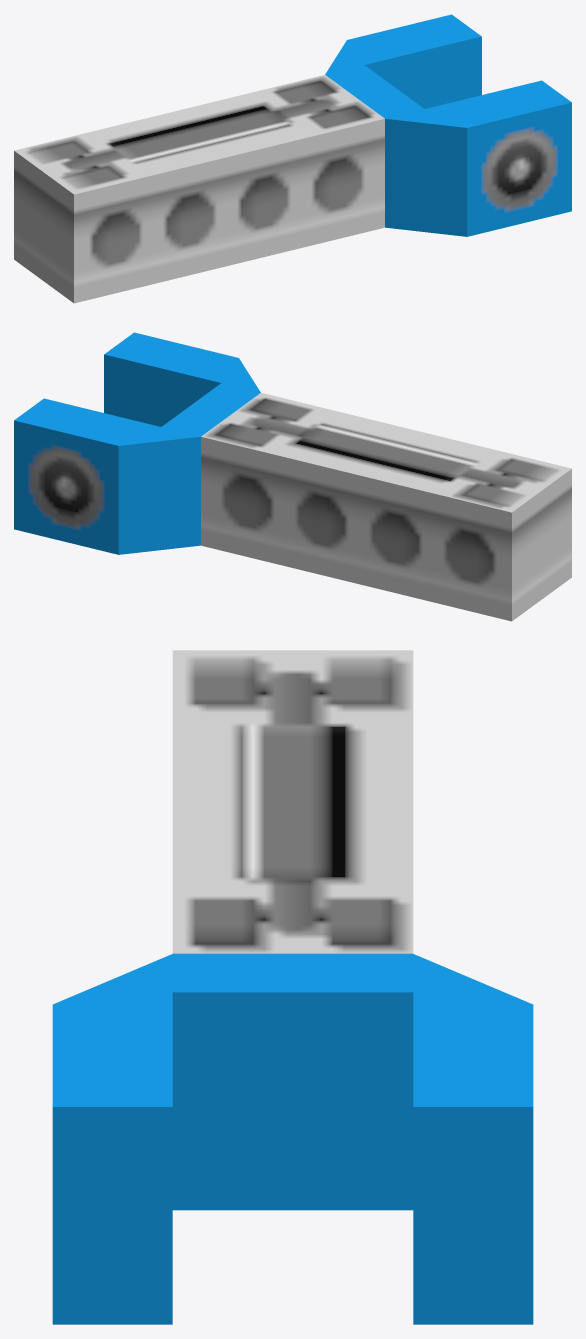
The model's file is lem3.obj.
3 views of the same model, one above another, from view 1: azimuth 30°, elevation 25°; view 2: azimuth 150°, elevation 25°; view 3: azimuth 270°, elevation 25° (orthographic). The views are drawn at different scales.
Parts seen in each view (by area): view 1: ColobotMesh_1_ColobotMesh_; view 2: ColobotMesh_1_ColobotMesh_; view 3: ColobotMesh_1_ColobotMesh_.
Part boxes in pixels (x1=…): ColobotMesh_1_ColobotMesh_: x1=14, y1=14, x2=571, y2=303; ColobotMesh_1_ColobotMesh_: x1=14, y1=332, x2=571, y2=621; ColobotMesh_1_ColobotMesh_: x1=52, y1=650, x2=533, y2=1324.
Bounding box in the file's own units: 4.49 × 1 × 2.
